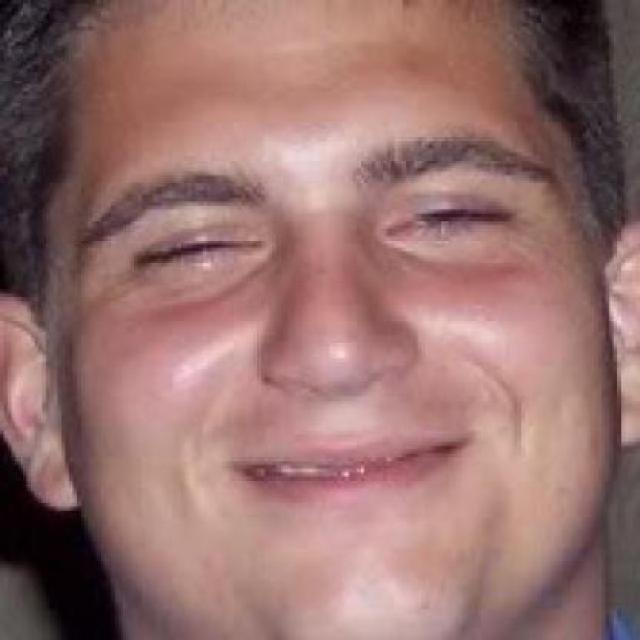drowsy: (390, 193, 513, 249), (136, 224, 258, 276)
